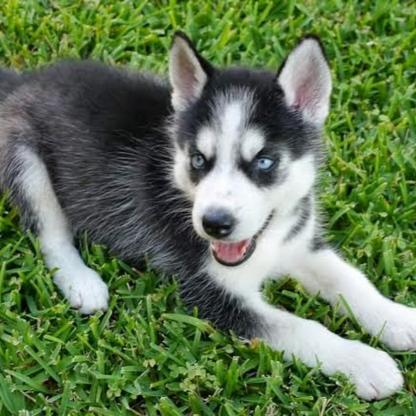husky: (0, 31, 413, 397)
